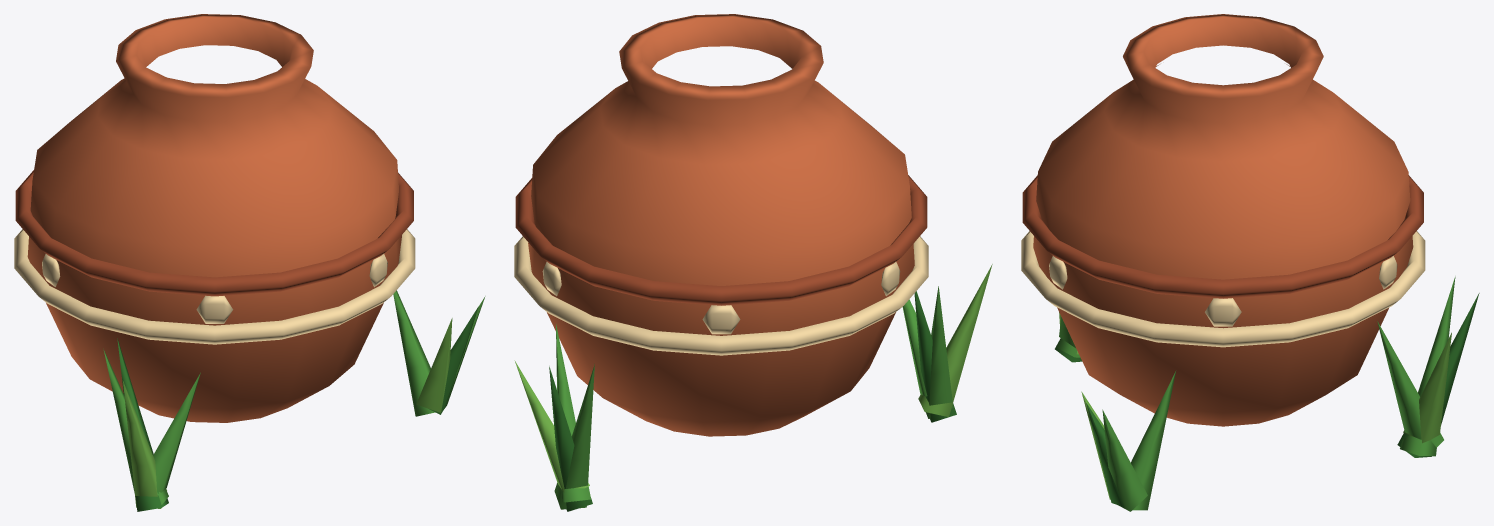
Rendered from ClayPot.glb.
3 views of the same model, side by side, from view 1: azimuth 30°, elevation 25°; view 2: azimuth 150°, elevation 25°; view 3: azimuth 270°, elevation 25° (orthographic). The views are drawn at different scales.
Visible parts, largest first — view 1: Body, Sway; view 2: Body, Sway; view 3: Body, Sway.
Boxes of the visible parts, bbox=[...] form: Body: bbox=[14, 14, 415, 422]; Sway: bbox=[103, 290, 485, 511]; Body: bbox=[514, 14, 928, 436]; Sway: bbox=[514, 264, 992, 511]; Body: bbox=[1021, 14, 1425, 426]; Sway: bbox=[1055, 276, 1479, 511].
Size of the model in its own units: 1.71 by 1.6 by 1.73.
Materials: 2 (2 with a texture image).
